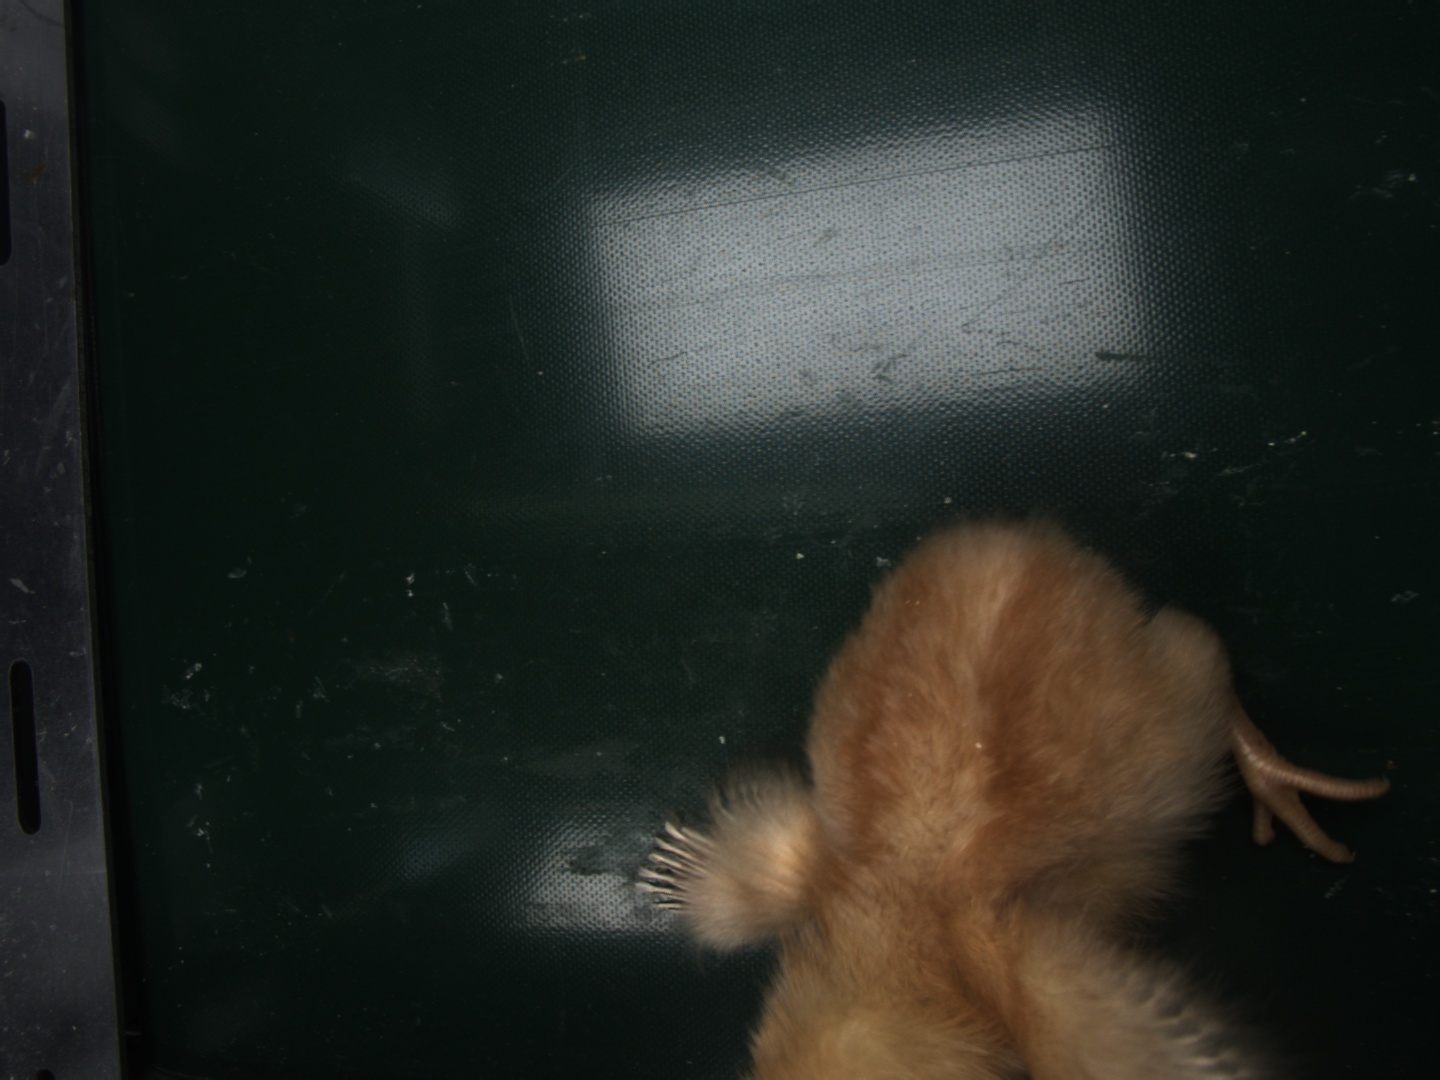female: (634, 822, 725, 916)
